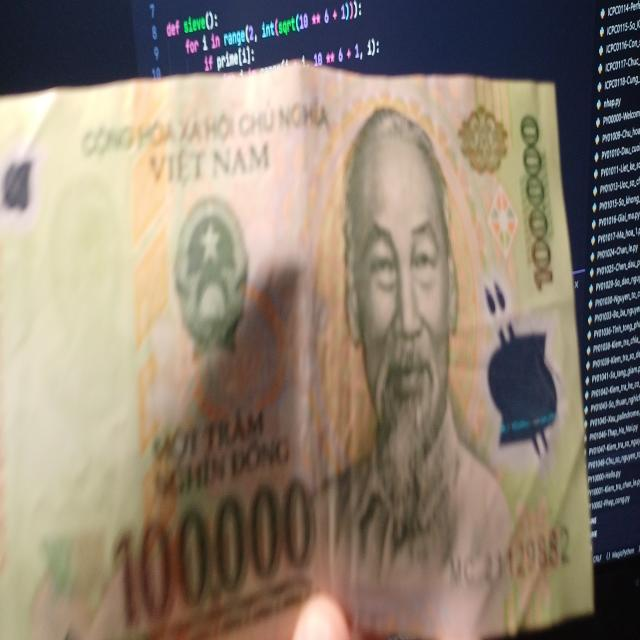100 000 VND: (0, 60, 594, 640)
